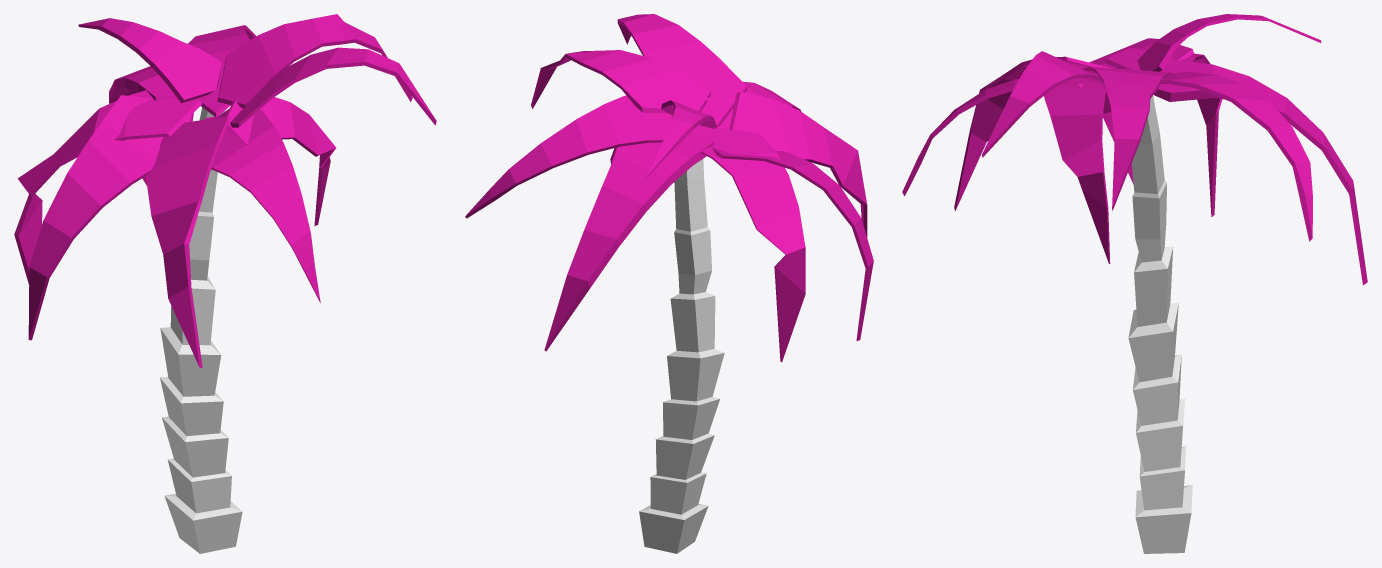
Rendered from Palm04.fbx.
3 views of the same model, side by side, from view 1: azimuth 30°, elevation 25°; view 2: azimuth 150°, elevation 25°; view 3: azimuth 270°, elevation 25° (orthographic). The views are drawn at different scales.
Parts seen in each view (by area): view 1: Palm02; view 2: Palm02; view 3: Palm02.
Boxes of the visible parts, box(x1,y1,x2,y2) form: Palm02: box(14, 14, 436, 553); Palm02: box(465, 14, 873, 553); Palm02: box(902, 14, 1367, 553).
Size of the model in its own units: 3429 by 4445 by 3631.
